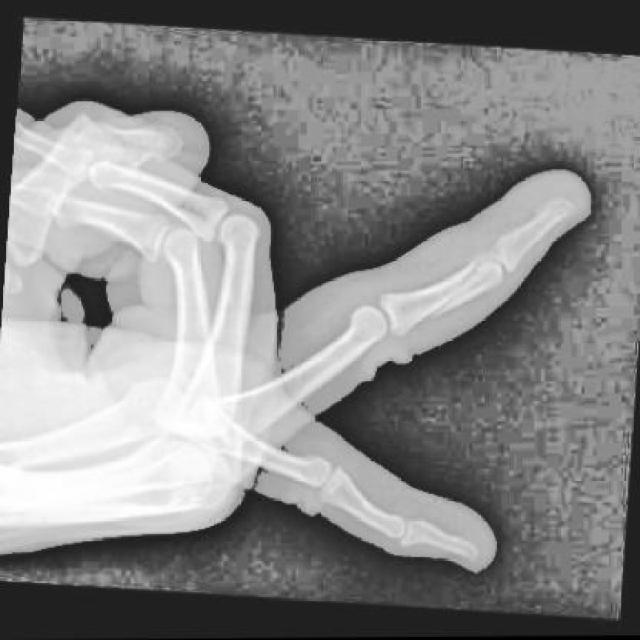bone: (434, 263, 487, 321)
